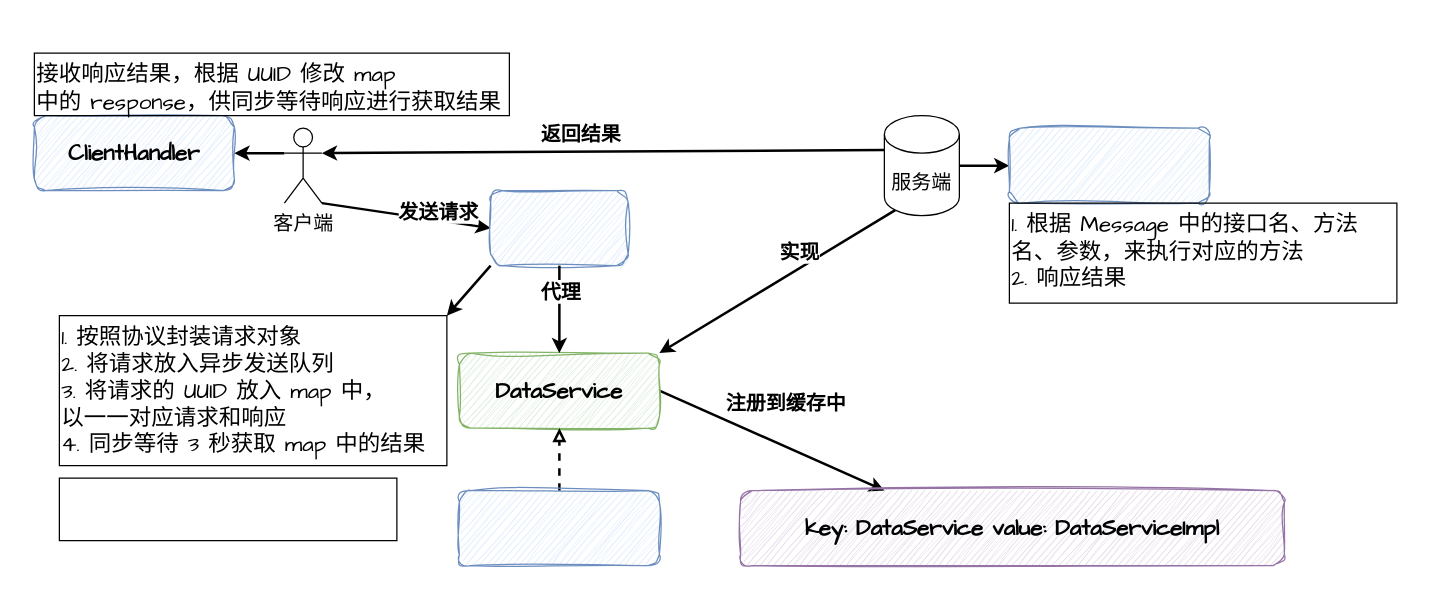
Some shapes in this 1430 by 611 pixel diagram are drawn without their labels. Here are the shapes that lost their labels. From the top down, the box of each, then its label:
(1008, 127, 1209, 203): ServiceHandler
(489, 189, 628, 266): Proxy
(58, 477, 397, 541): 客户端启动线程，异步消费阻塞队列中的请求
(458, 489, 659, 566): DataServiceImpl
